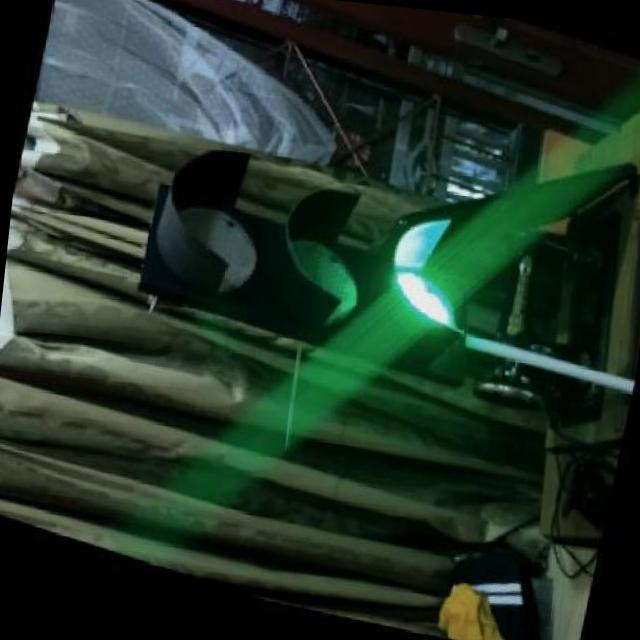green-lights: (370, 192, 490, 340)
